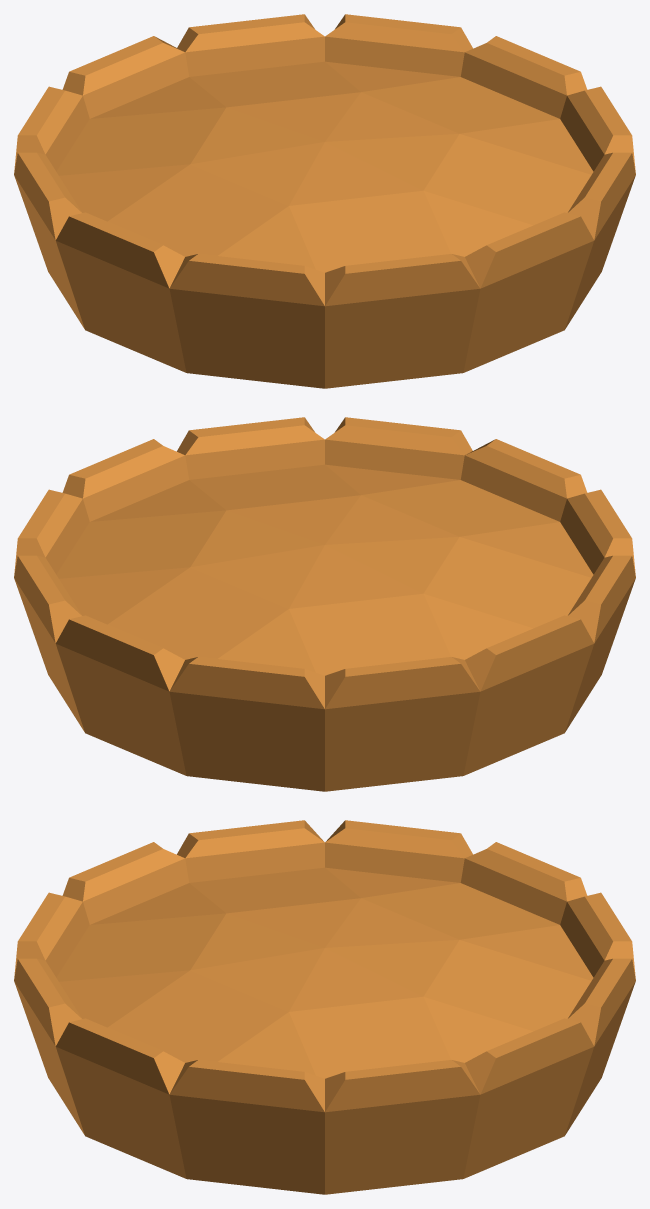
File: Pie.glb
3 views of the same model, one above another, from view 1: azimuth 30°, elevation 25°; view 2: azimuth 150°, elevation 25°; view 3: azimuth 270°, elevation 25° (orthographic).
Parts seen in each view (by area): view 1: Pie; view 2: Pie; view 3: Pie.
Part boxes in pixels (box(x1,y1,x2,y2)): Pie: box(14, 14, 635, 388); Pie: box(14, 417, 635, 791); Pie: box(14, 820, 635, 1194).
Bounding box in the file's own units: 0.255 × 0.0587 × 0.255.
